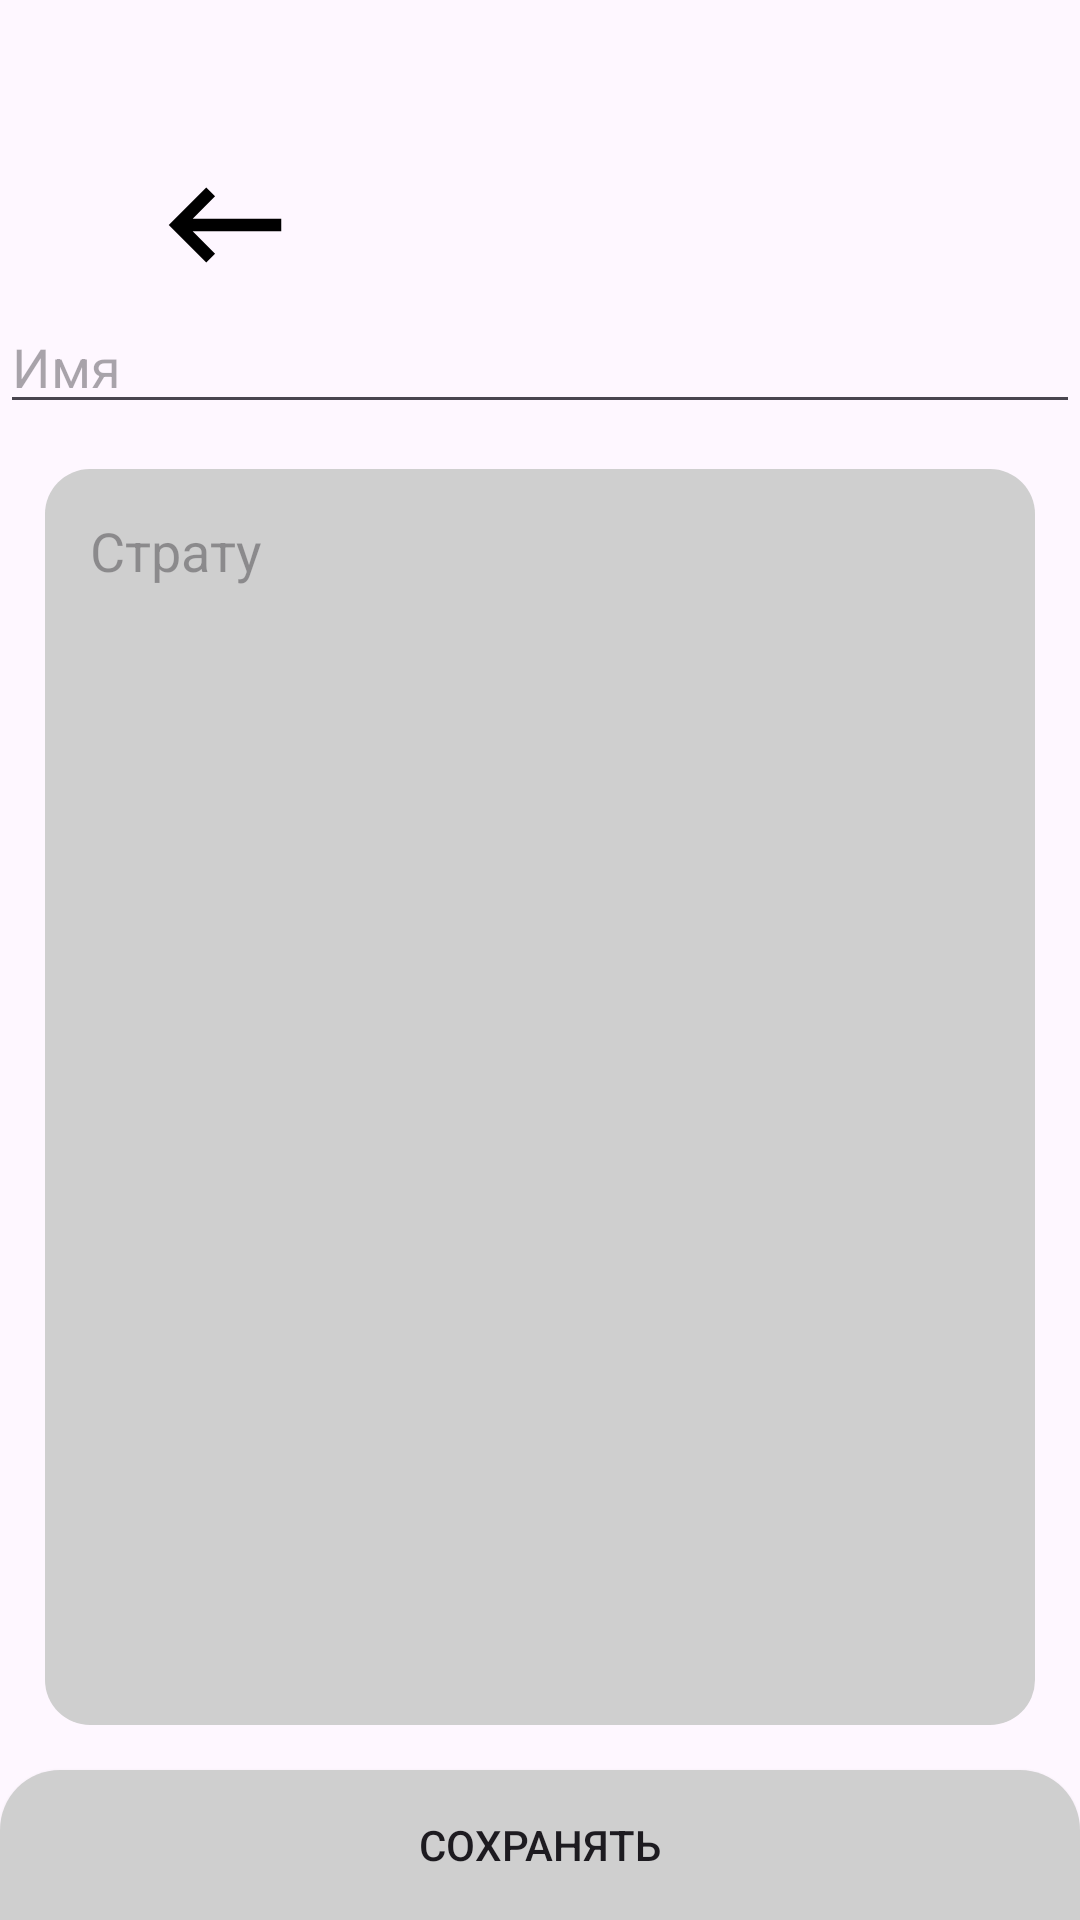

Icon bounding boxes for this 1080*1920 phone screenshot, format [x1, y1, x2, y2]:
keyboard backspace: [169, 187, 282, 263]
